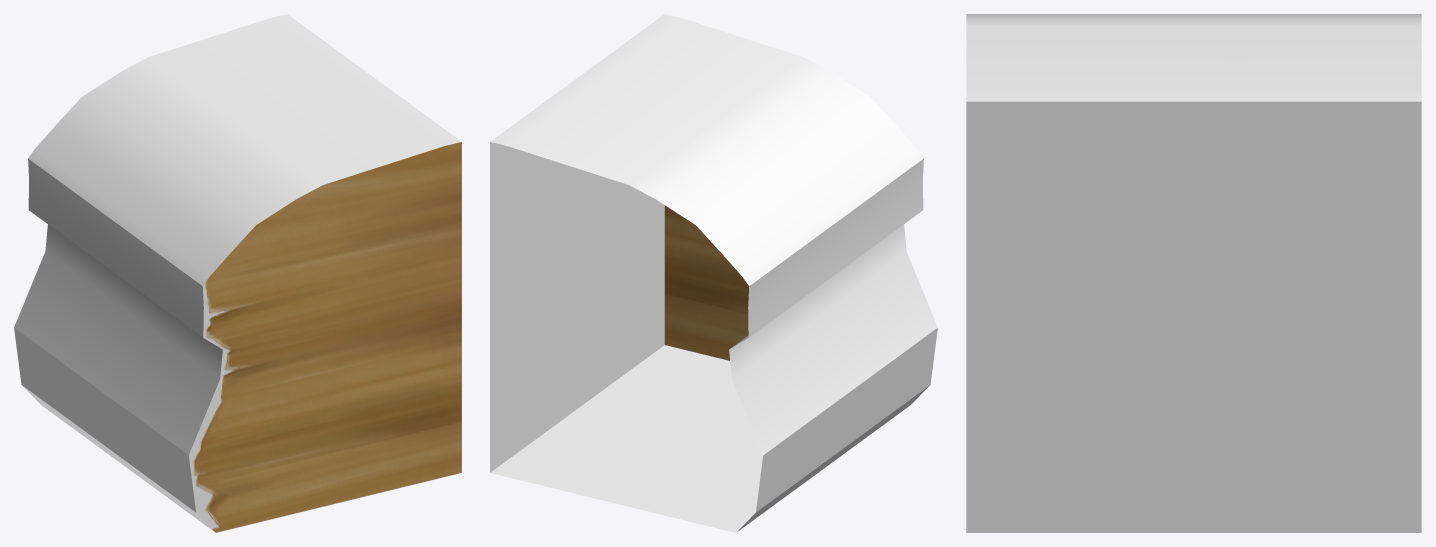
Rendered from Roca_02.fbx.
3 views of the same model, side by side, from view 1: azimuth 30°, elevation 25°; view 2: azimuth 150°, elevation 25°; view 3: azimuth 270°, elevation 25° (orthographic). The views are drawn at different scales.
Visible parts, largest first — view 1: Roca_02; view 2: Roca_02; view 3: Roca_02.
Boxes of the visible parts, box(x1,y1,x2,y2) form: Roca_02: box(14, 14, 461, 532); Roca_02: box(490, 14, 937, 532); Roca_02: box(966, 14, 1421, 532).
Bounding box in the file's own units: 5.9 × 6.83 × 6.54.
